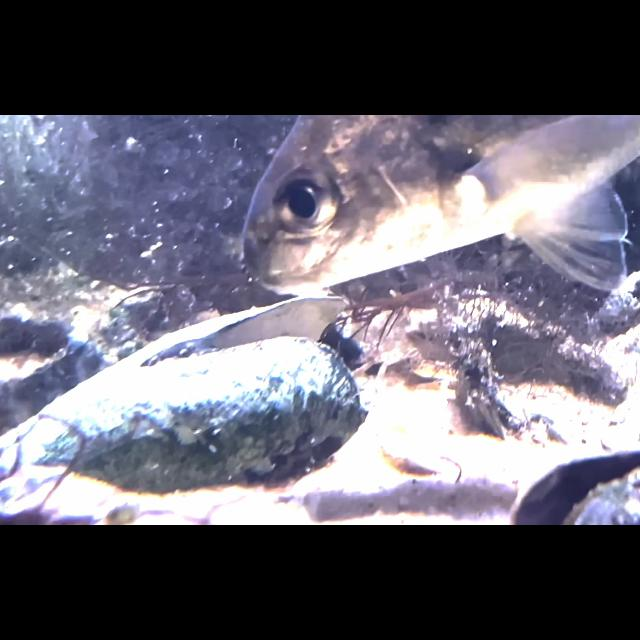Oyster-Closed: (598, 268, 640, 339)
Oyster-Open: (31, 288, 371, 496), (509, 448, 640, 525)
